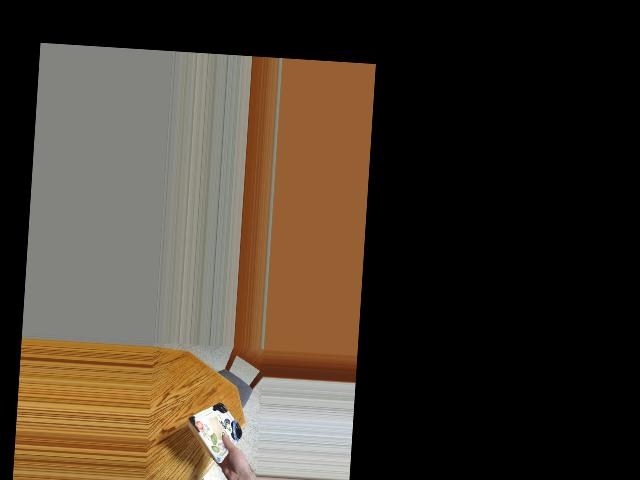cheese: (190, 400, 238, 456)
